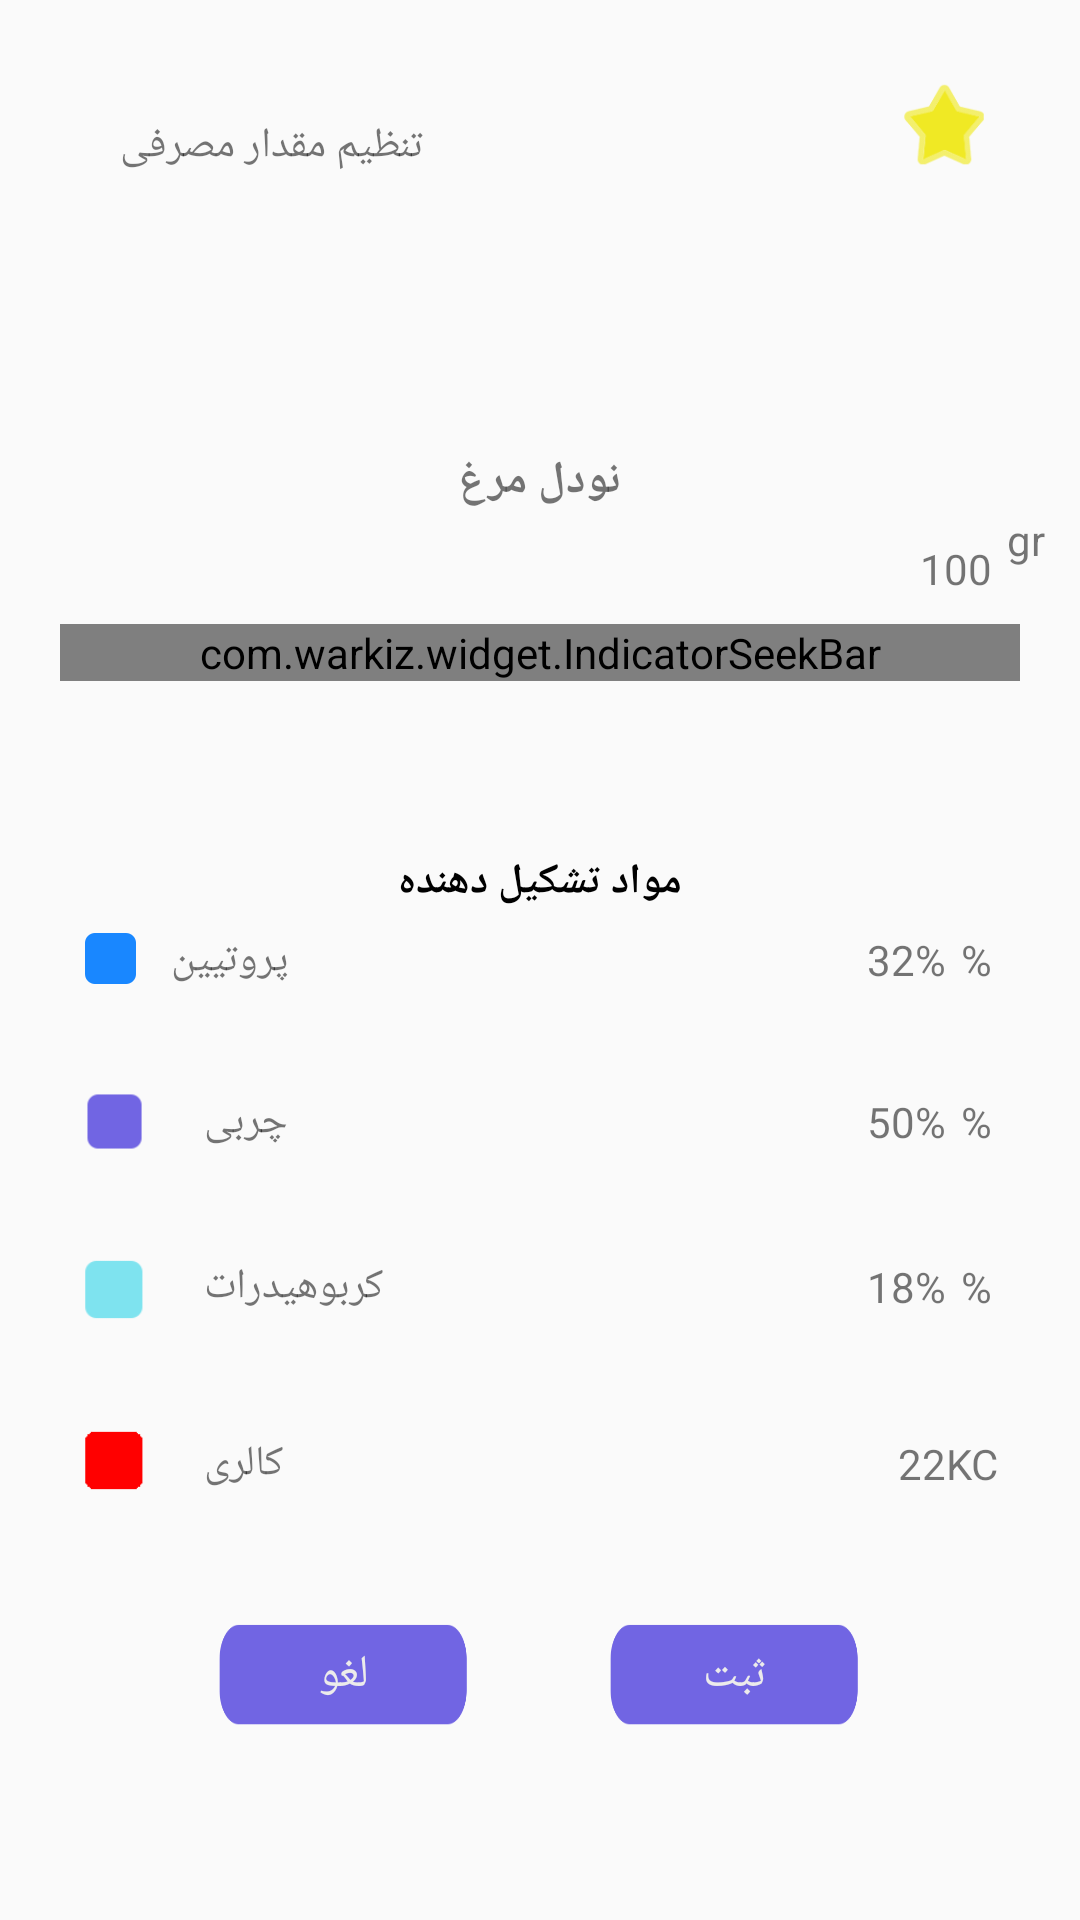

Icon click points for this 1080*1920 phone screenshot, format [x,y]:
star: [944,125]
